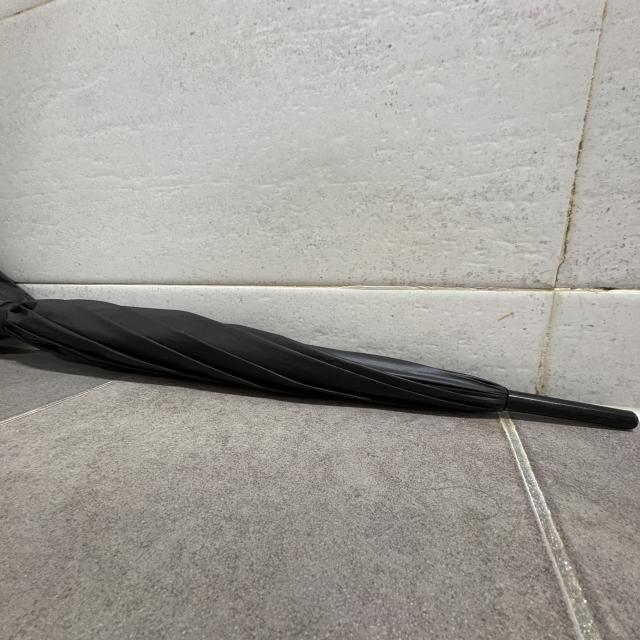umbrella: (0, 272, 639, 432)
